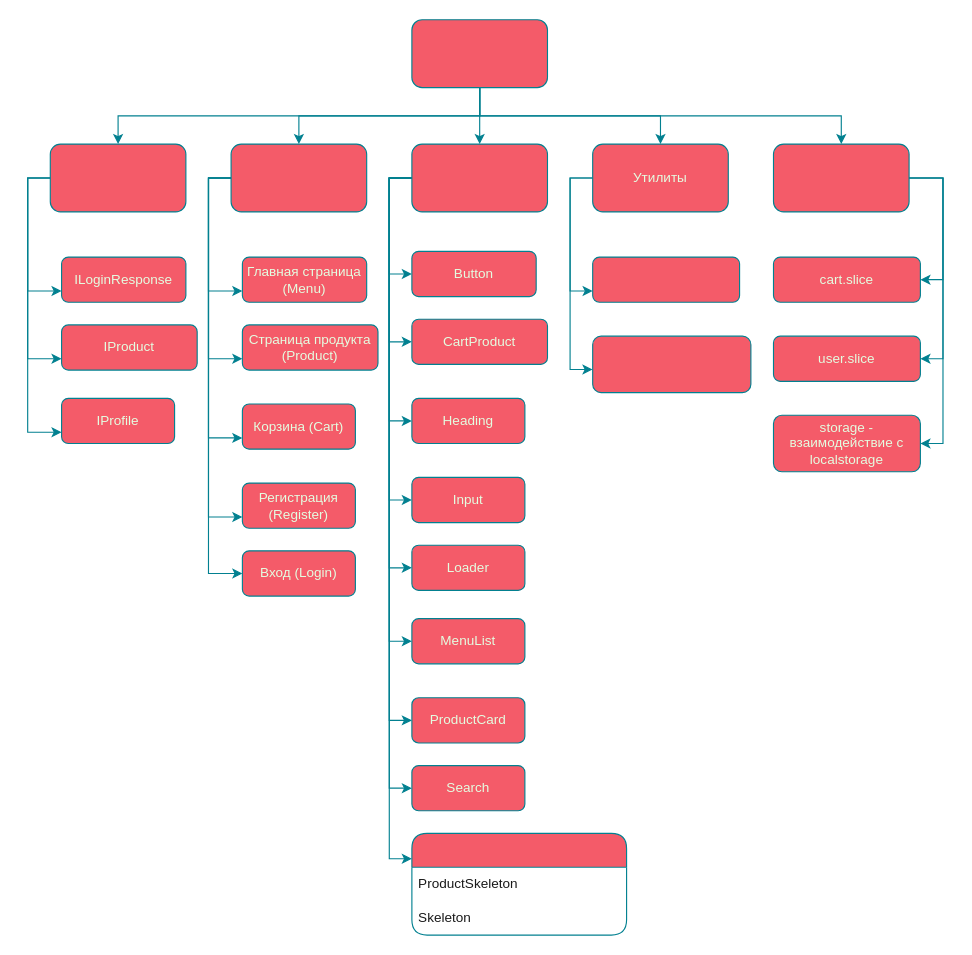
The diagram is 972 pixels wide and 955 high, and some of its shapes have lost their labels. Each missing label, with the box of its shape:
API - Базовый URL для API запросов.: (592, 256, 740, 302)
RequireAuth - проверка авторизации пользователя: (592, 335, 751, 393)
Skeletons: (411, 832, 627, 935)
Веб-приложение - Пиццерия: (411, 19, 547, 88)
Интерфейсы: (49, 143, 186, 212)
Компоненты: (411, 143, 547, 212)
Состояние (store): (772, 143, 909, 212)
Страницы: (230, 143, 367, 212)
